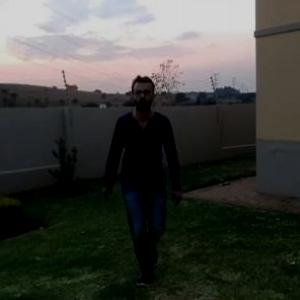follow: (110, 77, 178, 281)
